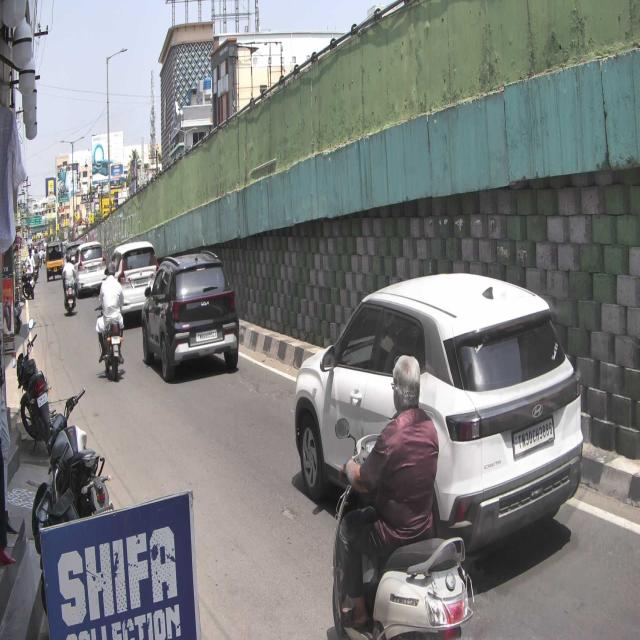single_rider: (328, 352, 474, 640)
